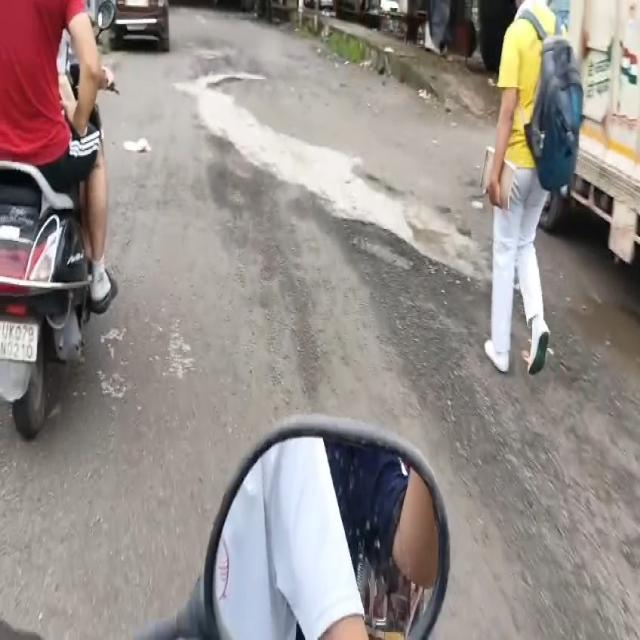road-pothole: (208, 163, 639, 639)
